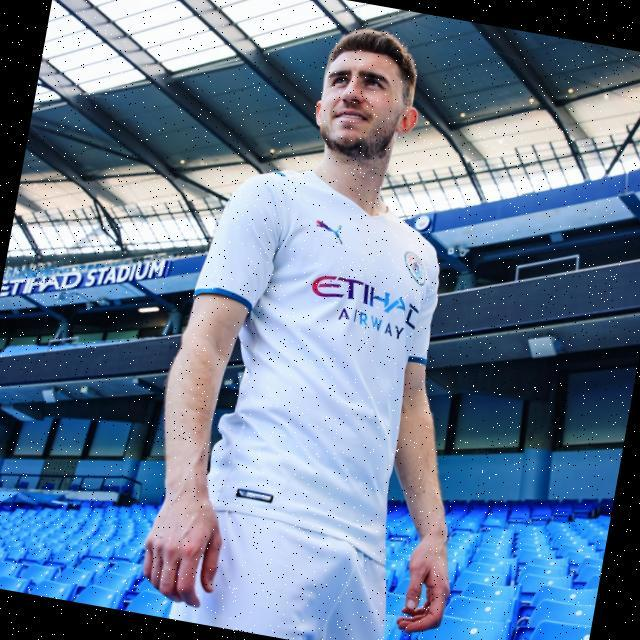Etihad Airways: (306, 272, 421, 342), (0, 256, 81, 309)
Puma: (313, 219, 345, 245)
